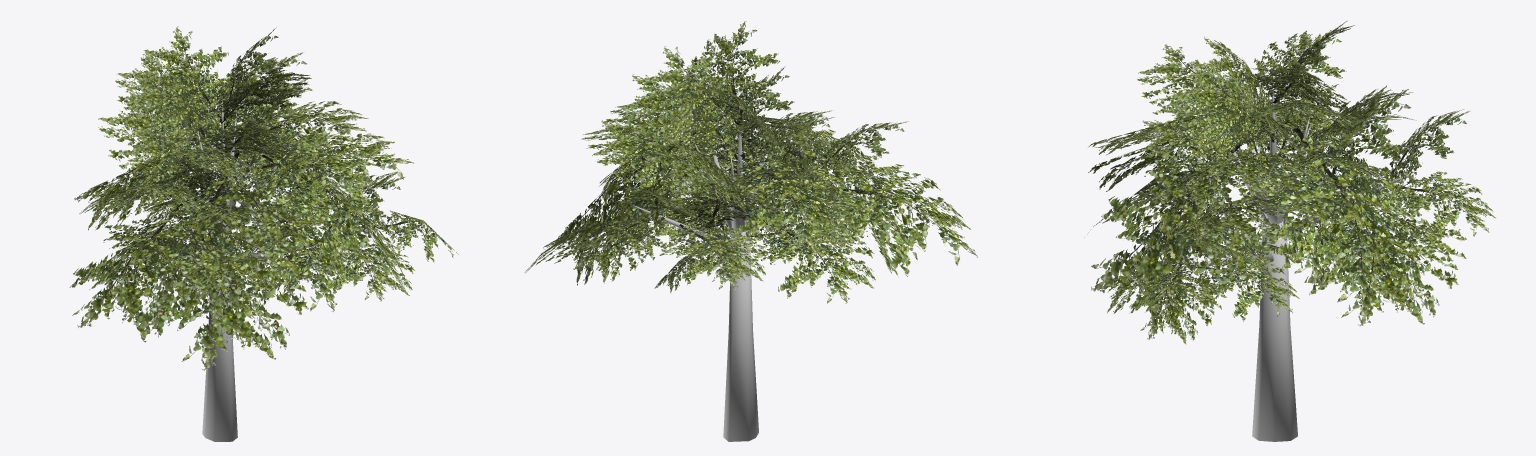
The model's file is Oak Tree.fbx.
3 views of the same model, side by side, from view 1: azimuth 30°, elevation 25°; view 2: azimuth 150°, elevation 25°; view 3: azimuth 270°, elevation 25° (orthographic). The views are drawn at different scales.
Parts seen in each view (by area): view 1: Tree_LOD0; view 2: Tree_LOD0; view 3: Tree_LOD0.
Part boxes in pixels (x1,y1,x2,y2): Tree_LOD0: (69,26,458,441); Tree_LOD0: (524,21,978,441); Tree_LOD0: (1087,20,1495,441).
Size of what is drawn, in the model's own units: 824 by 752 by 795.
